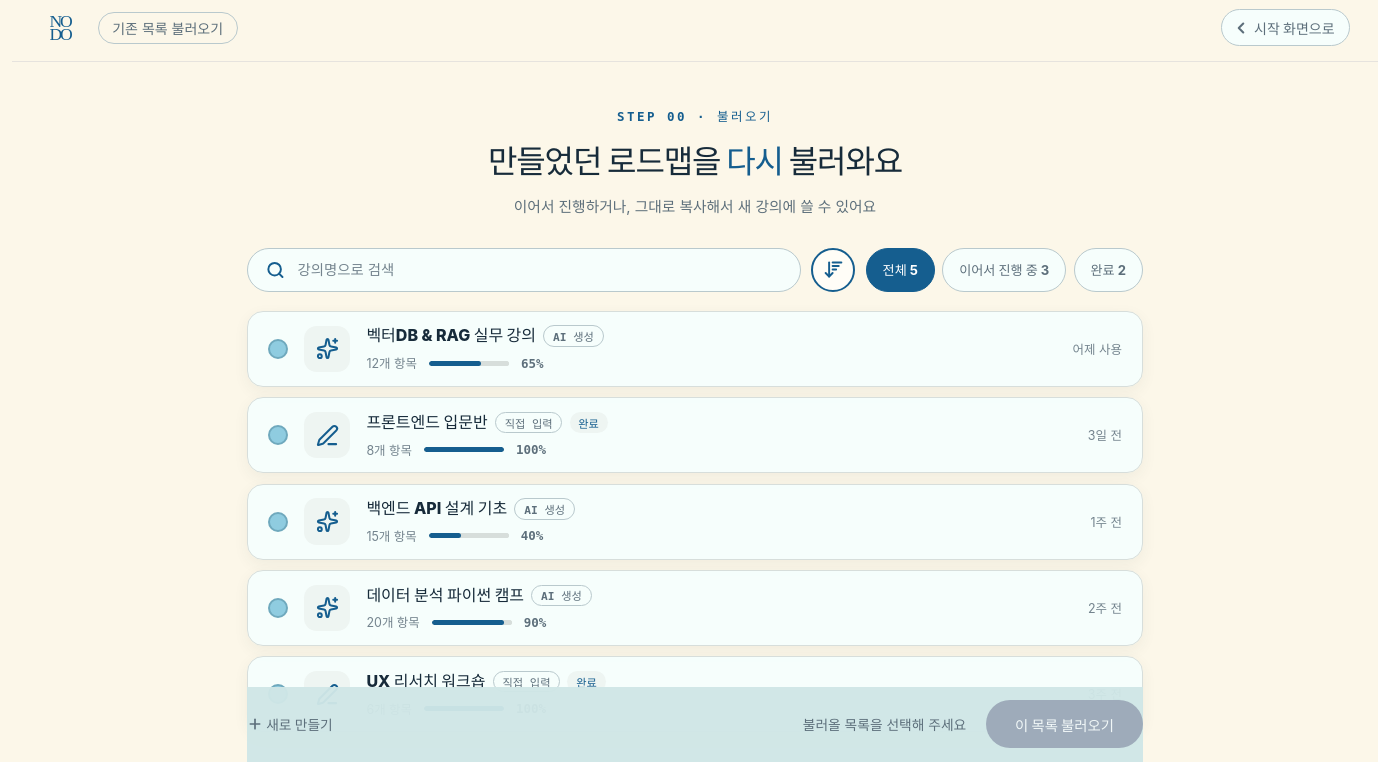
Test: ImportCoursesPage › 선택한 목록의 준비 경로로 이동한다
The image size is (1378, 762).
Click the radio button with aria-label "백엔드 API 설계 기초 선택".
click(278, 522)  # box top-left (268, 512), bottom-right (288, 532)
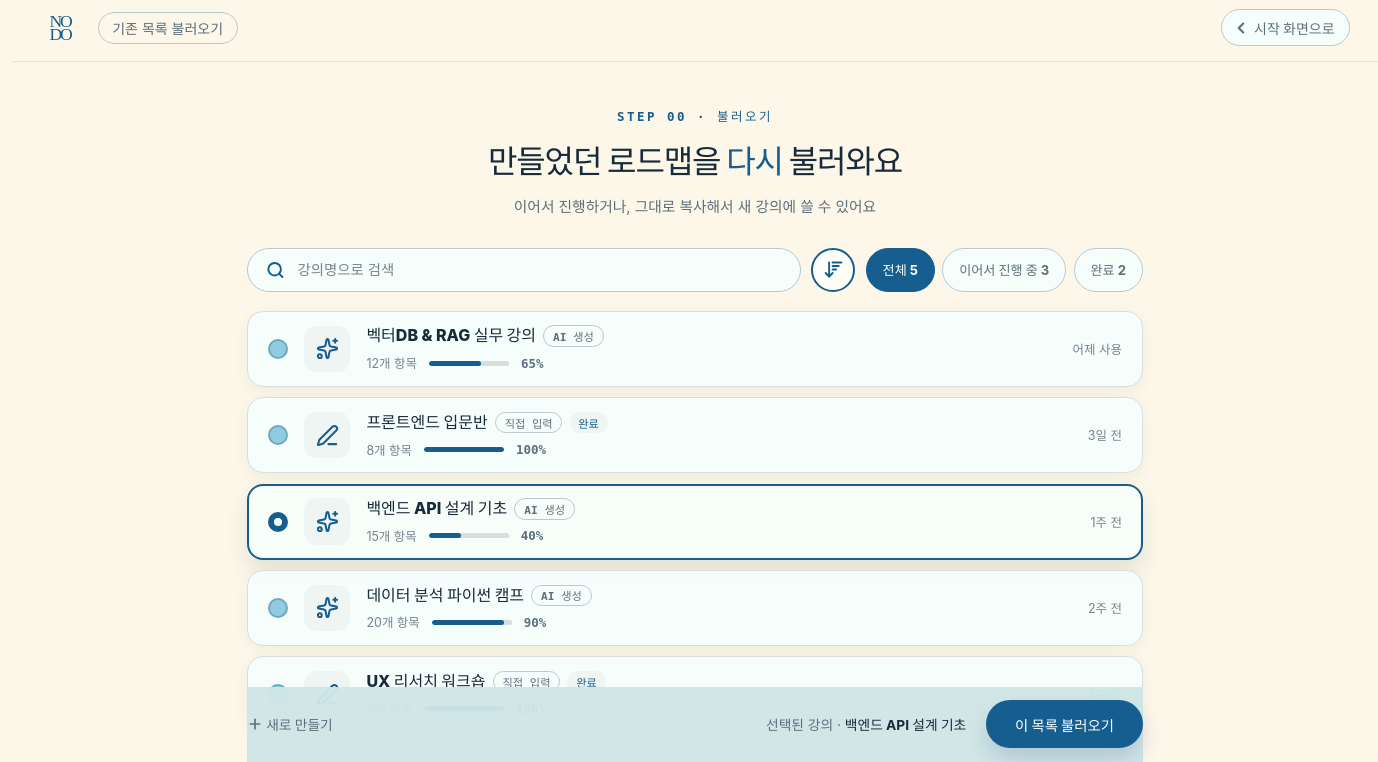
Click the button "이 목록 불러오기".
click(1065, 724)  # box top-left (986, 700), bottom-right (1143, 748)
(page scrolled)
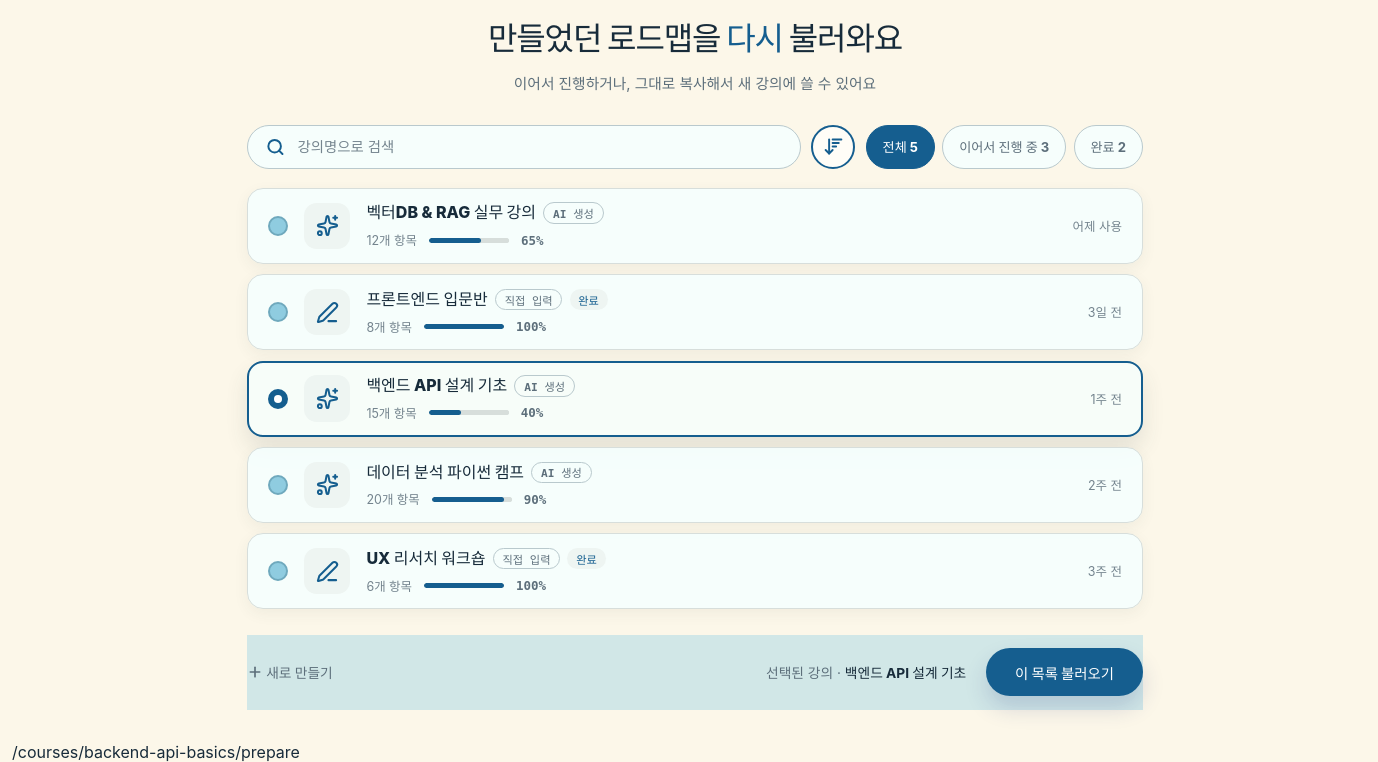
expect the text with test id "location" reads "/courses/backend-api-basics/prepare": met, box top-left (12, 742), bottom-right (300, 761)
